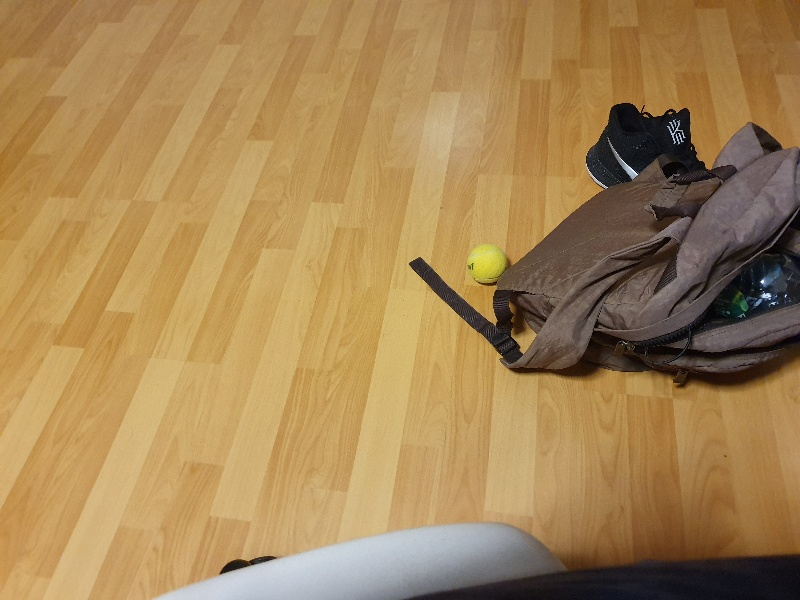Tennisball: (462, 244, 513, 293)
